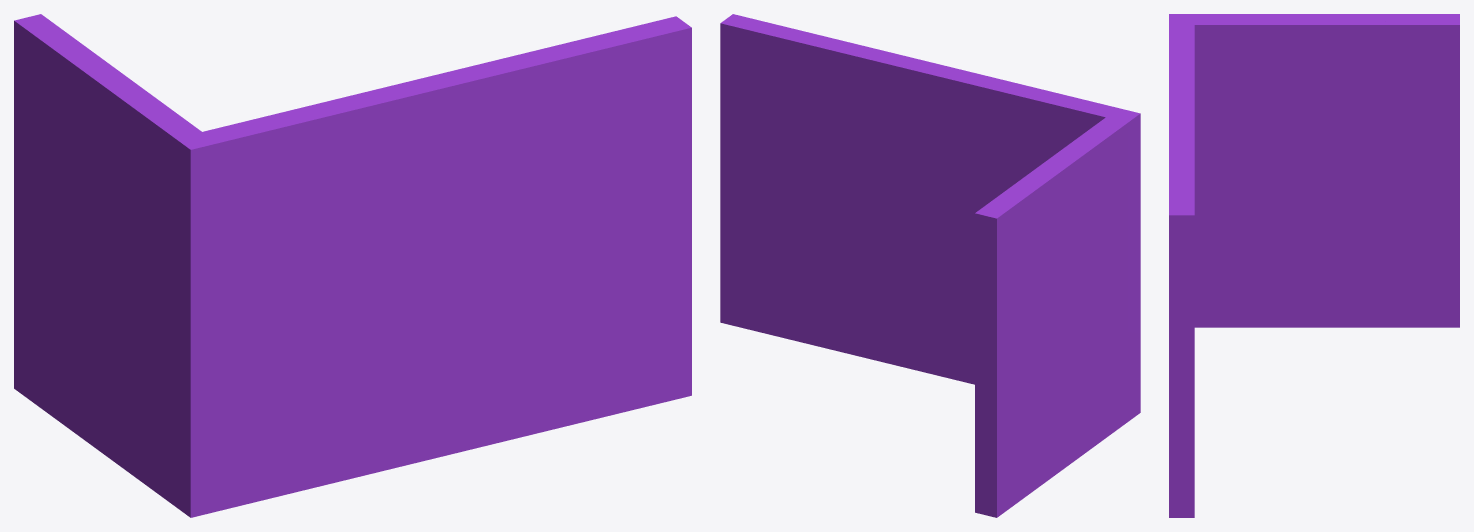
The model's file is Barrier_196_chunks.fbx.
3 views of the same model, side by side, from view 1: azimuth 30°, elevation 25°; view 2: azimuth 150°, elevation 25°; view 3: azimuth 270°, elevation 25° (orthographic). The views are drawn at different scales.
Parts seen in each view (by area): view 1: Barrier_196_1, Barrier_196_6, Barrier_196_0, Barrier_196_4, Barrier_196_3, Barrier_196_2, Barrier_196_5; view 2: Barrier_196_6, Barrier_196_1, Barrier_196_3, Barrier_196_0, Barrier_196_4, Barrier_196_2; view 3: Barrier_196_0, Barrier_196_1, Barrier_196_2, Barrier_196_6, Barrier_196_3.
Part boxes in pixels (x1,y1,x2,y2): Barrier_196_1: (47,45,391,420); Barrier_196_6: (484,49,691,443); Barrier_196_0: (14,184,352,517); Barrier_196_4: (271,208,493,478); Barrier_196_3: (345,16,691,238); Barrier_196_2: (14,14,476,192); Barrier_196_5: (455,197,531,302); Barrier_196_6: (720,36,896,362); Barrier_196_1: (967,73,1140,333); Barrier_196_3: (720,14,997,199); Barrier_196_0: (971,315,1140,517); Barrier_196_4: (885,172,1005,383); Barrier_196_2: (881,62,1026,359); Barrier_196_0: (1194,151,1459,327); Barrier_196_1: (1169,14,1404,228); Barrier_196_2: (1183,14,1459,173); Barrier_196_6: (1169,228,1194,517); Barrier_196_3: (1169,94,1194,232).
Bounding box in the file's own units: 410 × 288 × 250.
